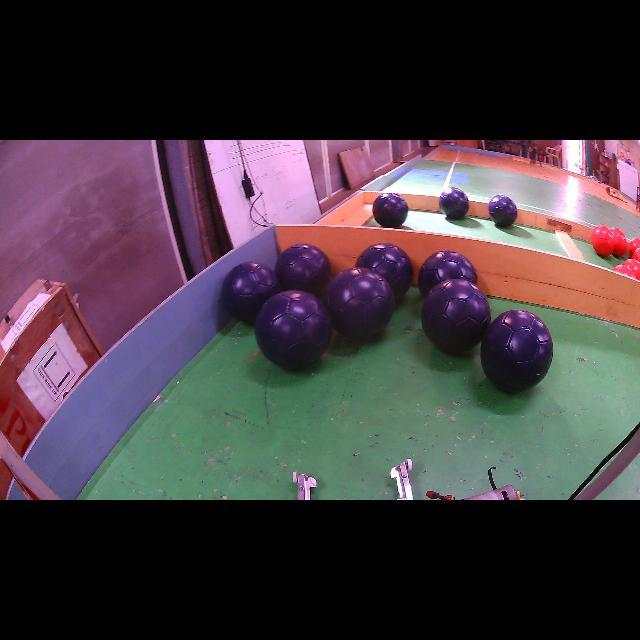B: (255, 290, 332, 369), (480, 310, 552, 392), (421, 279, 491, 354), (324, 268, 394, 338), (221, 261, 281, 324), (355, 242, 414, 298), (275, 244, 331, 296), (418, 251, 478, 295), (372, 192, 409, 228), (489, 195, 518, 228), (439, 188, 469, 219)
R: (591, 225, 615, 256), (610, 228, 628, 258), (612, 265, 636, 279), (624, 259, 640, 280), (629, 238, 640, 256), (631, 248, 640, 261)
